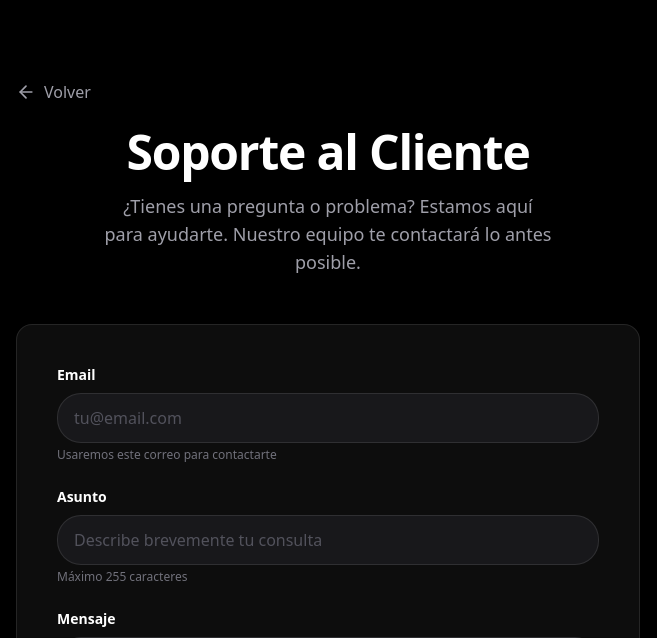
Scenario: Support — formulario de contacto › muestra el error del backend si el envío falla
Type "ana@test.cl" into the field labelled "Email" at (328, 418), box [57,393,599,443]
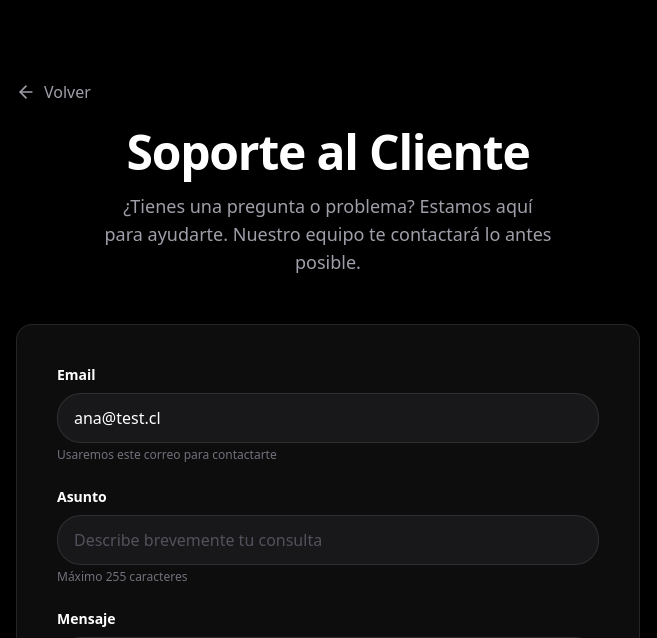
Type "Problema con mi cuenta" into the field labelled "Asunto" at (328, 540), box [57,515,599,565]
(page scrolled)
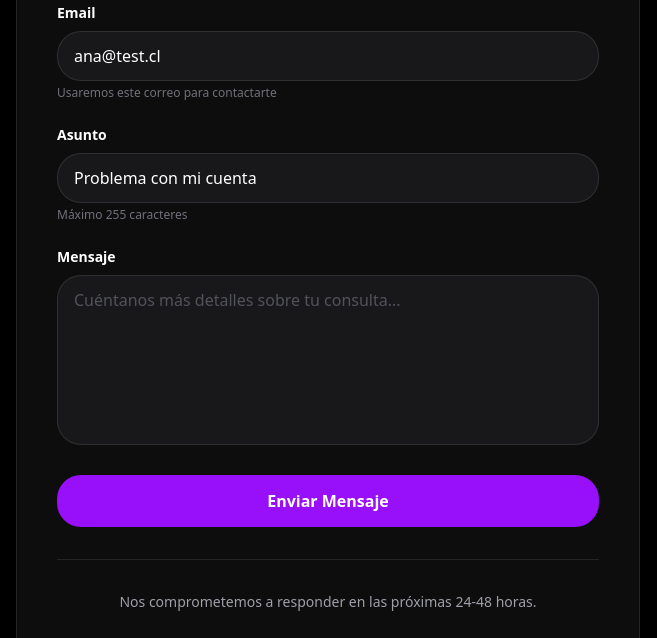
Type "No puedo subir mi demo." into the text box labelled "Mensaje" at (328, 360), box [57,275,599,445]
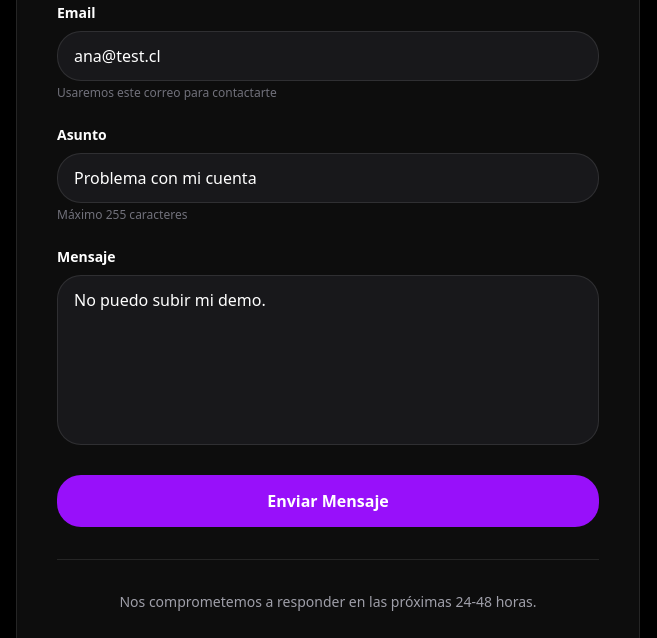
Click the button "Enviar Mensaje" at (328, 501), box [57,475,599,527]
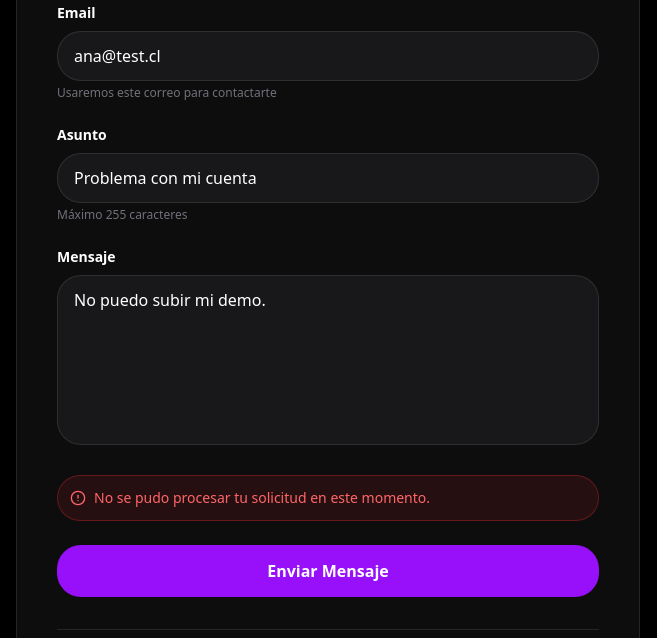
expect the text "No se pudo procesar tu solicitud en este momento." is shown: met, box [57,475,599,521]
